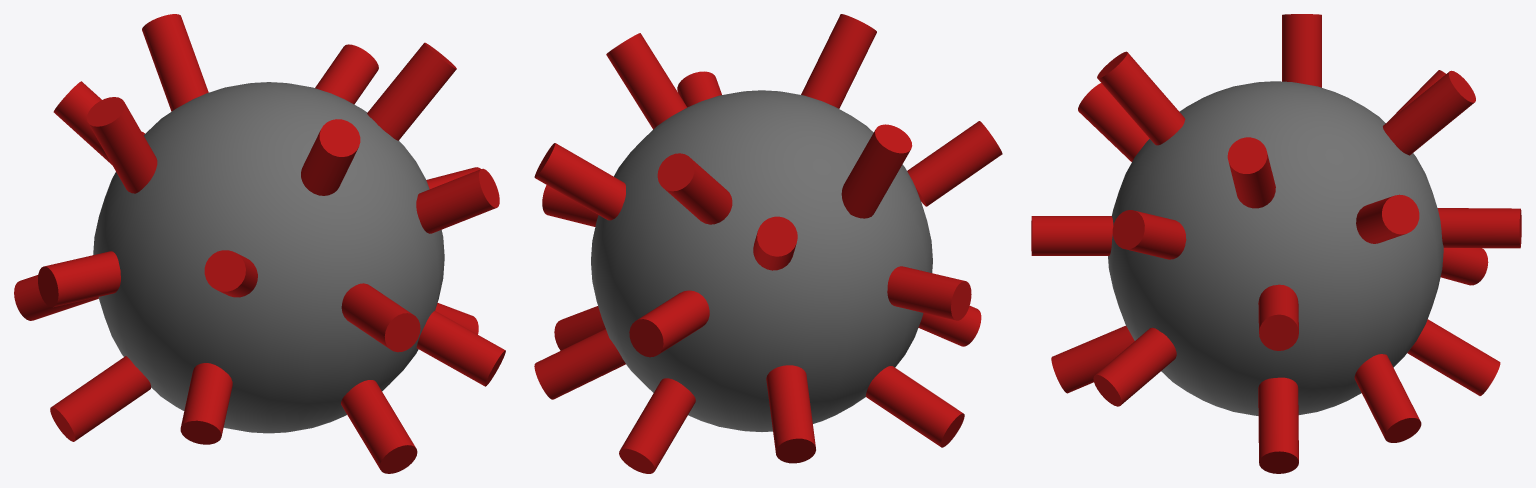
Rendered from covid-19.fbx.
3 views of the same model, side by side, from view 1: azimuth 30°, elevation 25°; view 2: azimuth 150°, elevation 25°; view 3: azimuth 270°, elevation 25° (orthographic). The views are drawn at different scales.
Visible parts, largest first — view 1: Sphere, Cylinder9, Cylinder2, Cylinder10, Cylinder, Cylinder4, Cylinder19, Cylinder18, Cylinder3, Cylinder6, Cylinder16, Cylinder1 (+5 smaller); view 2: Sphere, Cylinder9, Cylinder11, Cylinder15, Cylinder17, Cylinder, Cylinder12, Cylinder1, Cylinder2, Cylinder13, Cylinder3, Cylinder5 (+6 smaller); view 3: Sphere, Cylinder1, Cylinder4, Cylinder8, Cylinder11, Cylinder13, Cylinder19, Cylinder5, Cylinder6, Cylinder, Cylinder18, Cylinder10 (+5 smaller).
Part boxes in pixels (x1,y1,x2,y2): Sphere: (93, 82, 444, 433); Cylinder9: (50, 356, 151, 441); Cylinder2: (367, 42, 456, 140); Cylinder10: (341, 380, 417, 473); Cylinder: (86, 97, 157, 193); Cylinder4: (142, 14, 208, 111); Cylinder19: (416, 311, 505, 386); Cylinder18: (416, 168, 499, 233); Cylinder3: (38, 251, 120, 307); Cylinder6: (341, 283, 420, 352); Cylinder16: (180, 363, 232, 444); Cylinder1: (301, 119, 360, 195); Sphere: (591, 90, 932, 431); Cylinder9: (866, 366, 964, 447); Cylinder11: (619, 378, 695, 473); Cylinder15: (766, 365, 815, 463); Cylinder17: (907, 121, 1002, 206); Cylinder: (841, 124, 912, 218); Cylinder12: (534, 143, 625, 220); Cylinder1: (801, 14, 876, 108); Cylinder2: (606, 33, 687, 129); Cylinder13: (534, 329, 625, 399); Cylinder3: (887, 266, 971, 320); Cylinder5: (629, 290, 709, 357); Sphere: (1108, 81, 1443, 415); Cylinder1: (1097, 51, 1185, 145); Cylinder4: (1383, 70, 1475, 155); Cylinder8: (1258, 377, 1298, 473); Cylinder11: (1407, 319, 1500, 395); Cylinder13: (1354, 354, 1421, 442); Cylinder19: (1093, 327, 1176, 406); Cylinder5: (1437, 208, 1521, 248); Cylinder6: (1031, 216, 1113, 255); Cylinder: (1282, 14, 1321, 87); Cylinder18: (1112, 210, 1186, 259); Cylinder10: (1051, 325, 1134, 393).
Size of the model in its own units: 1.4 by 1.12 by 1.46.
